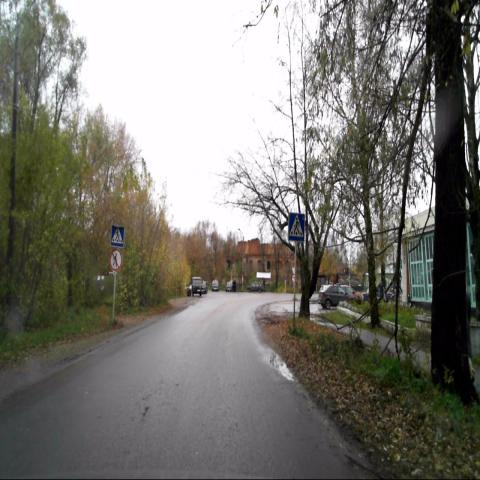3_10: (109, 248, 123, 271)
